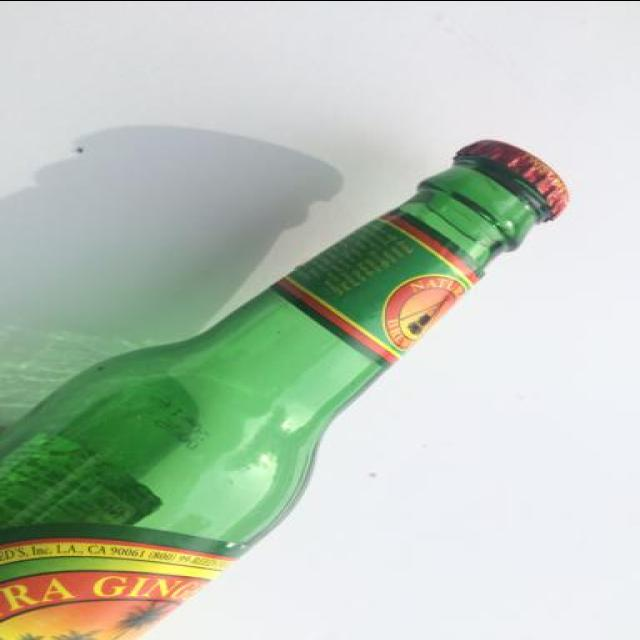litter: (5, 136, 577, 638)
